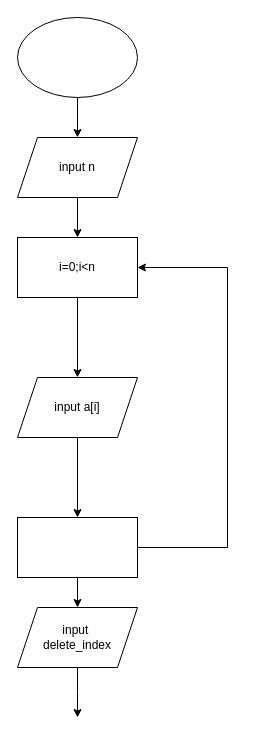
Image size: 253x743. Some labels were removed from this diagram. Here are the shapes that lost their labels. From the top down, the centre of each, then its label:
(x=77, y=57): start
(x=77, y=547): i++
